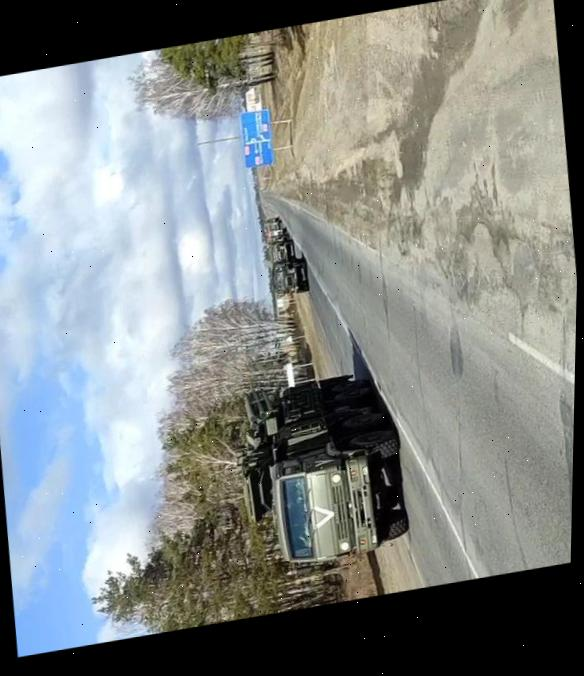truck: (226, 355, 415, 584), (268, 252, 314, 303), (263, 231, 297, 263), (261, 214, 287, 233)
